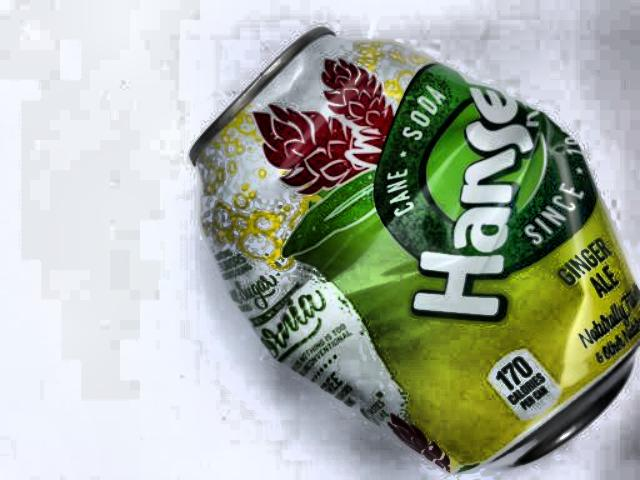Bottles: (160, 15, 640, 479)
